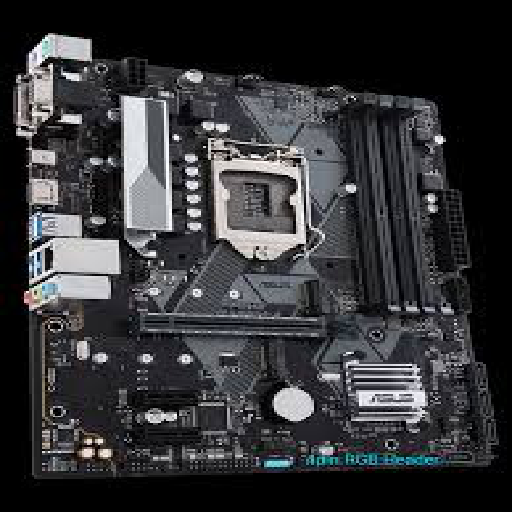CPU: (208, 136, 308, 263)
GPU: (131, 312, 357, 338)
MOTHERBOARD: (30, 52, 492, 466)
RAM: (339, 93, 456, 319)
SSD: (261, 342, 287, 381), (305, 279, 323, 314)
